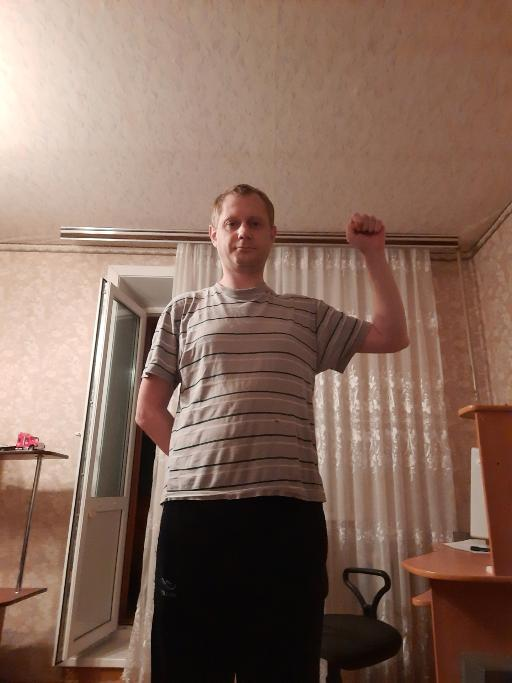fist: (343, 209, 389, 256)
